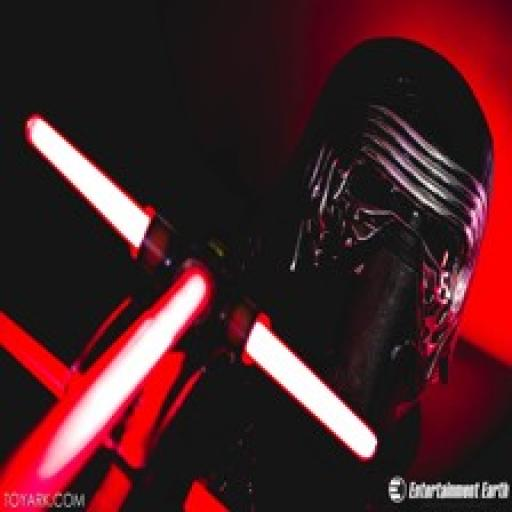sith saber: (0, 102, 376, 512)
